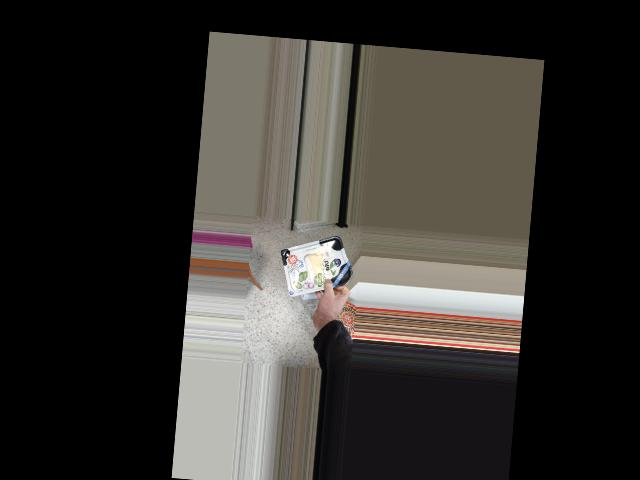cheese: (282, 238, 349, 290)
